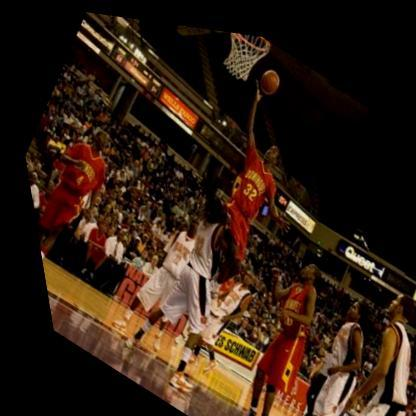basketball: (250, 53, 285, 91)
rim: (231, 26, 274, 51)
